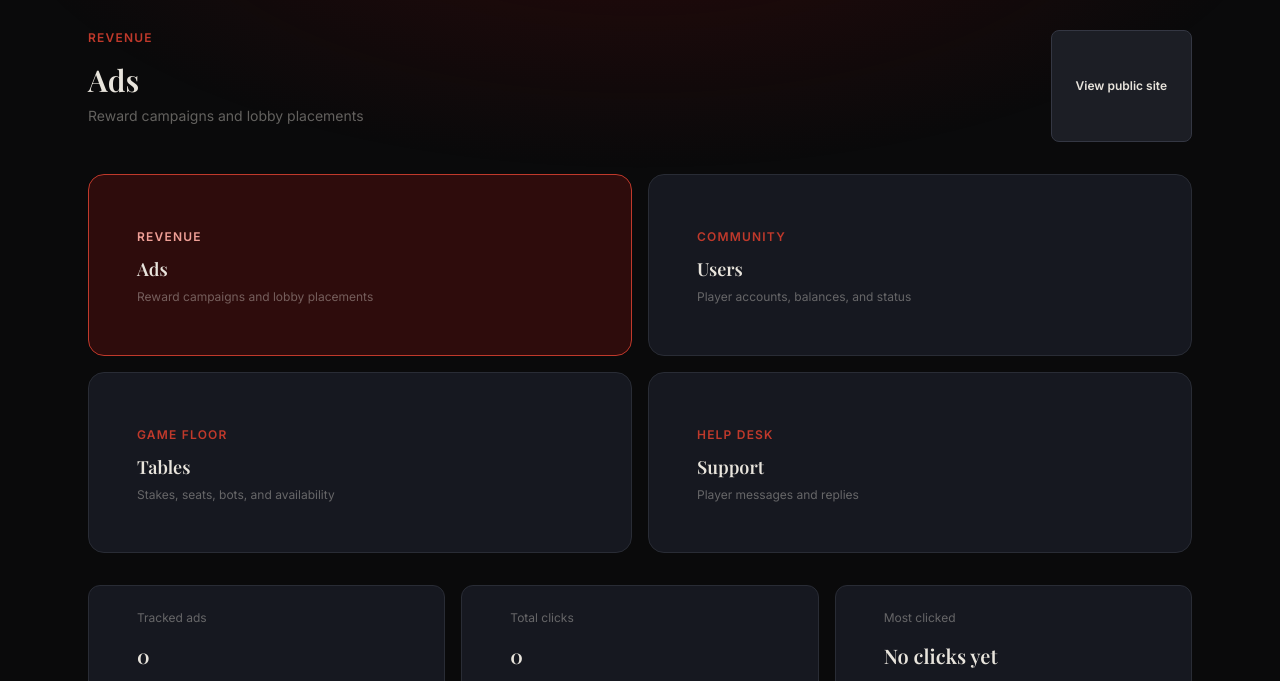
AdminDashboard: record text › tables show stakes, seated players and average pot
The image size is (1280, 681).
Click the button "Game floor Tables Stakes, seats, bots, and availability": (182, 434) [88, 372, 632, 553]
(page scrolled)
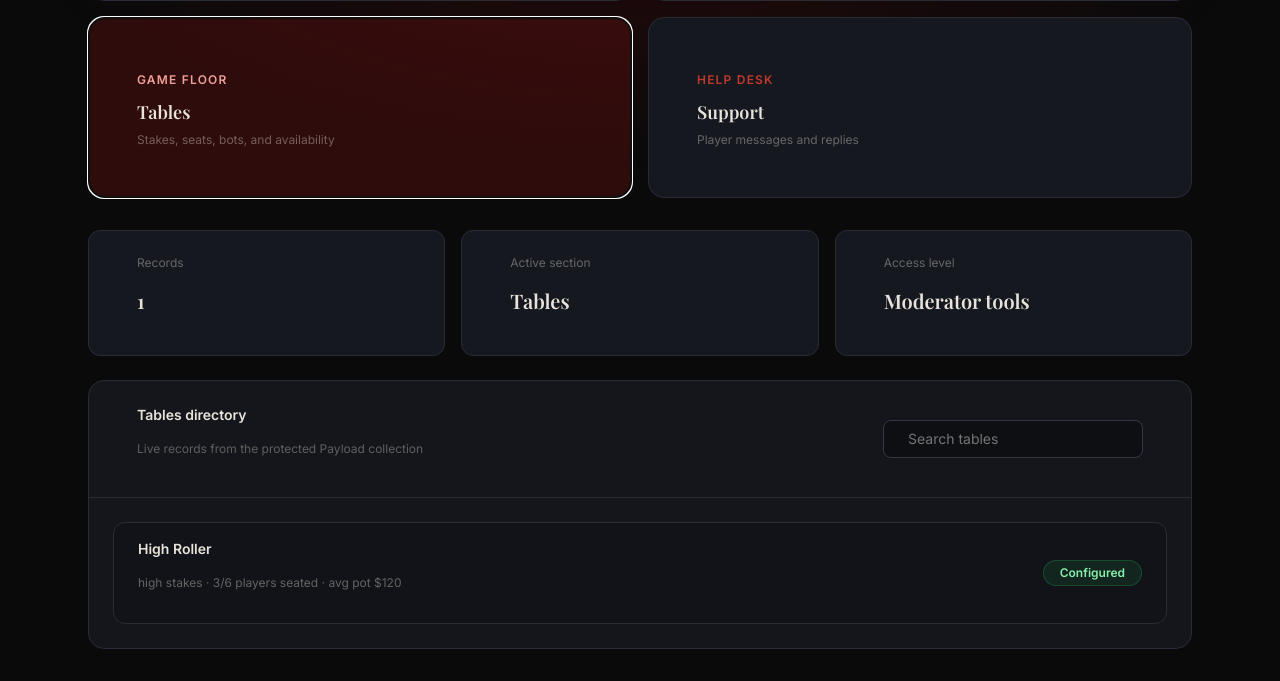
Expected: the text "high stakes · 3/6 players seated · avg pot $120" is shown, [138, 575, 402, 591]
